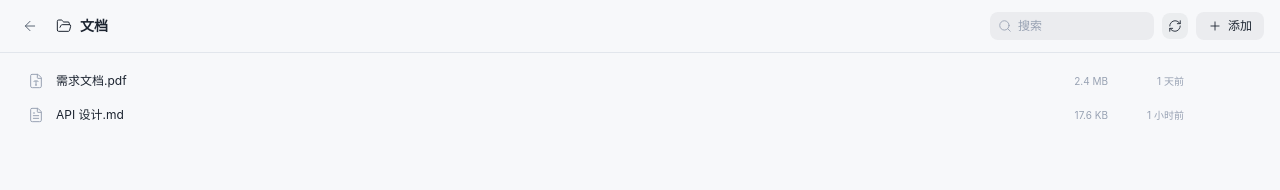
Scenario: DocumentsPanel › add 无失败项但随之触发的 list 复检失败时,仍 inline 显示该错误
Click the button with test id "documents-add".
click(1230, 26)  # box x1=1196 y1=12 x2=1264 y2=40
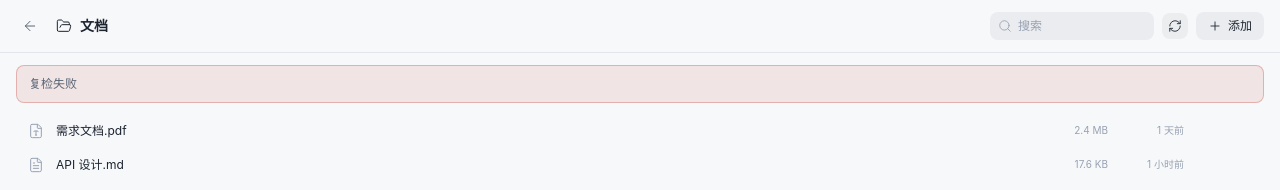
expect the text with test id "documents-error" reads "复检失败": met, box x1=29 y1=76 x2=77 y2=91
